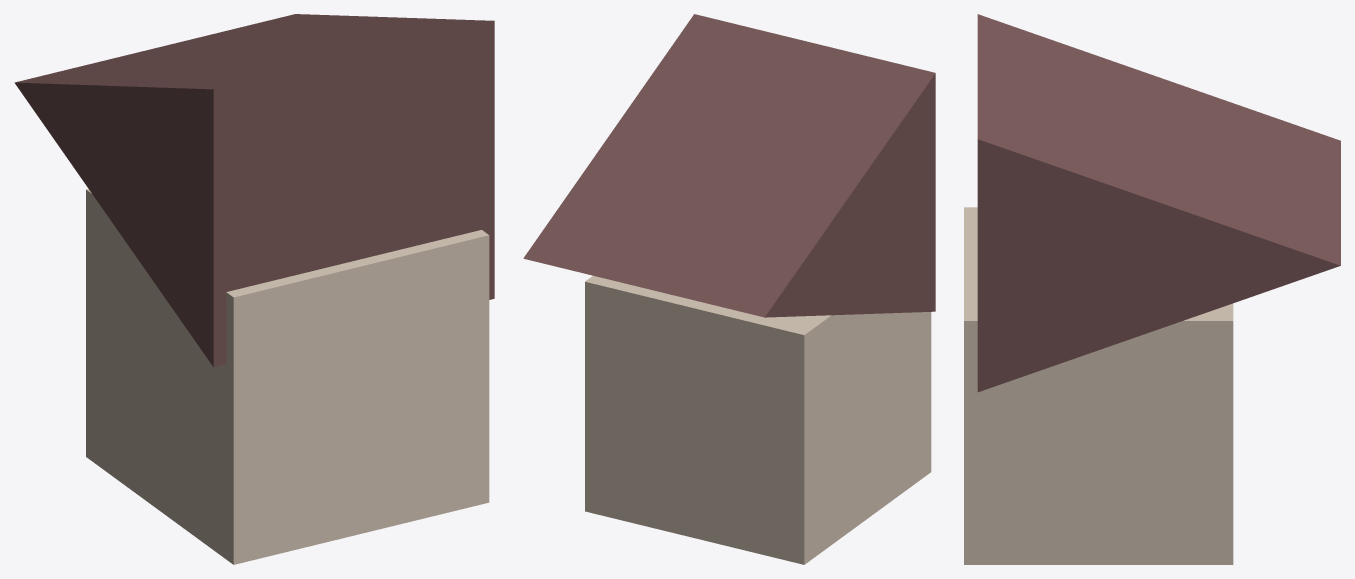
The model's file is colonial_house.glb.
3 renders of one model, left to right at view 1: azimuth 30°, elevation 25°; view 2: azimuth 150°, elevation 25°; view 3: azimuth 270°, elevation 25°, orthographic. The views are drawn at different scales.
Parts seen in each view (by area): view 1: colonial_house; view 2: colonial_house; view 3: colonial_house.
Part boxes in pixels (left/top/right/bottom): colonial_house: left=14, top=14, right=494, bottom=564; colonial_house: left=523, top=14, right=935, bottom=564; colonial_house: left=964, top=14, right=1340, bottom=564.
Bounding box in the file's own units: 2.2 × 3.54 × 2.8.
